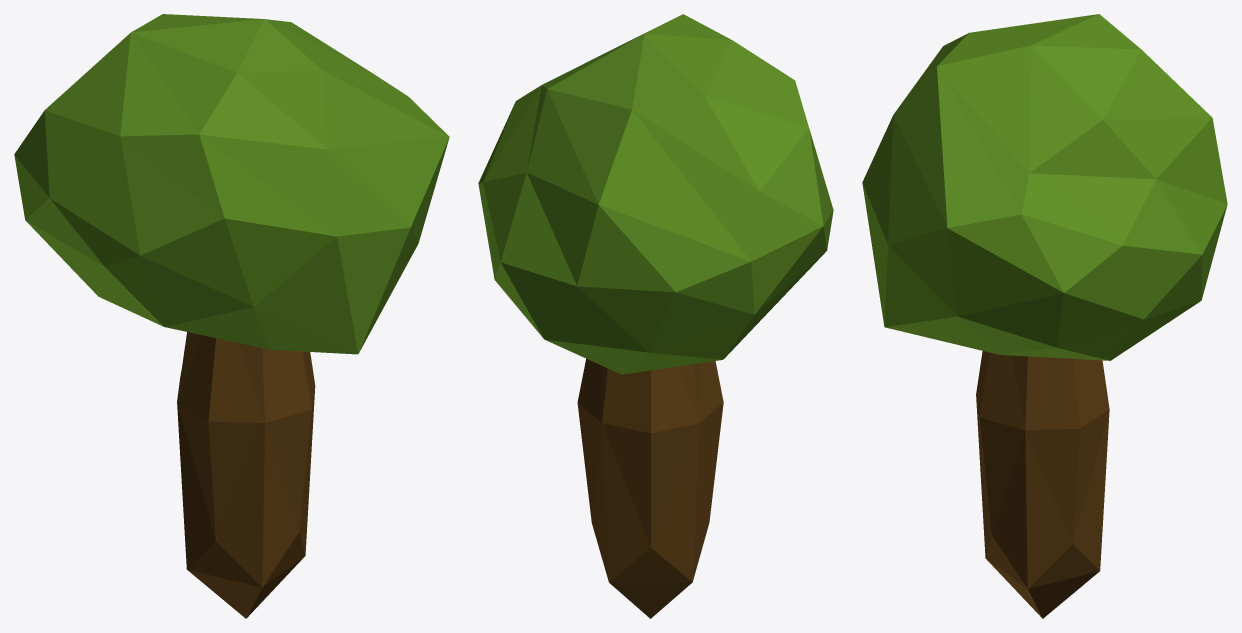
File: tree13.dae
The picture shows the model from 3 angles, left to right: view 1: azimuth 30°, elevation 25°; view 2: azimuth 150°, elevation 25°; view 3: azimuth 270°, elevation 25°; orthographic projection. The views are drawn at different scales.
Visible parts, largest first — view 1: Icosphere_059; view 2: Icosphere_059; view 3: Icosphere_059.
Boxes of the visible parts, box(x1,y1,x2,y2) form: Icosphere_059: box(14, 14, 449, 618); Icosphere_059: box(478, 14, 833, 618); Icosphere_059: box(862, 14, 1227, 618).
Size of the model in its own units: 1.34 by 1.24 by 2.17.
